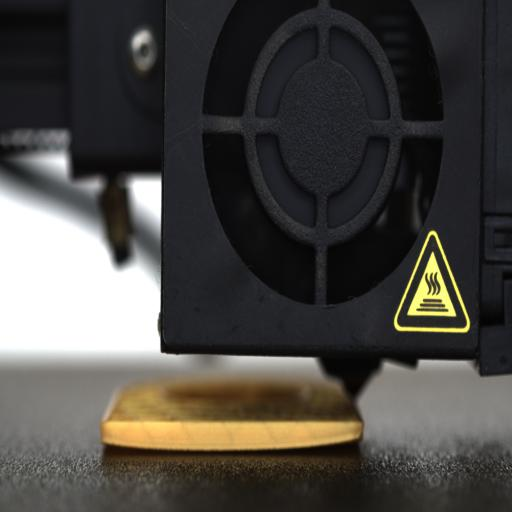warp: (99, 417, 186, 448), (291, 418, 366, 446)
